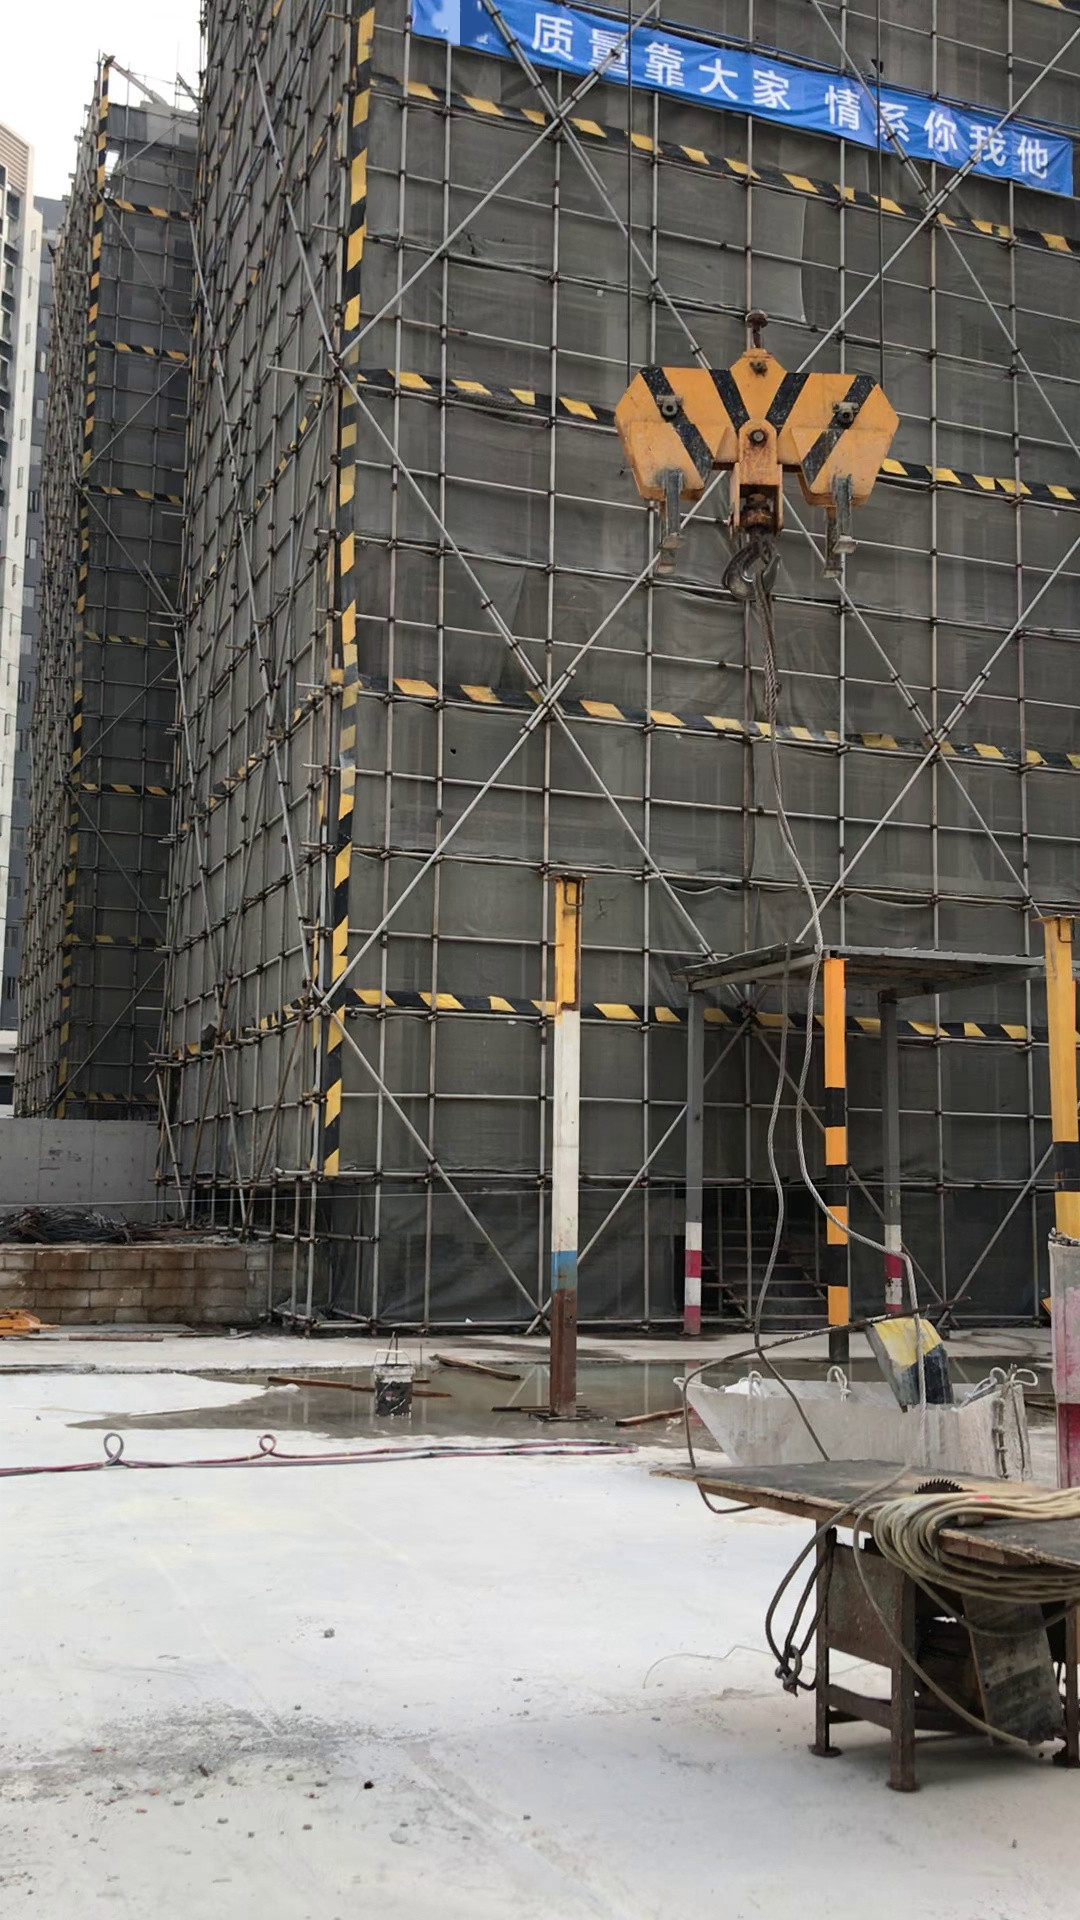cutter: (661, 1457, 1080, 1822)
hook: (618, 342, 903, 597)
hopper: (686, 1370, 1022, 1476)
slogan: (530, 3, 1068, 189)
